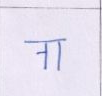aa_matra: (57, 42, 61, 67)
